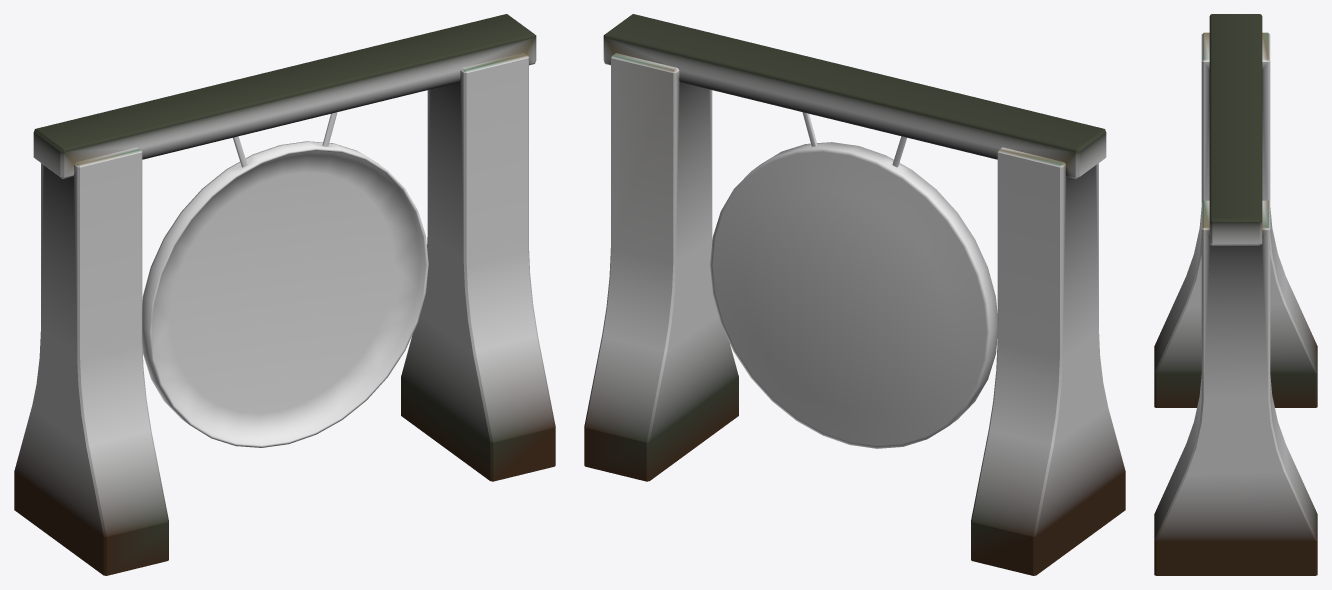
The model's file is GONG.glb.
3 views of the same model, side by side, from view 1: azimuth 30°, elevation 25°; view 2: azimuth 150°, elevation 25°; view 3: azimuth 270°, elevation 25° (orthographic). The views are drawn at different scales.
Visible parts, largest first — view 1: SUPP; view 2: SUPP; view 3: SUPP.
Part boxes in pixels (x1,y1,x2,y2): SUPP: (14, 14, 555, 575); SUPP: (584, 14, 1125, 575); SUPP: (1154, 14, 1317, 575).
Bounding box in the file's own units: 5.11 × 4.17 × 1.7.
